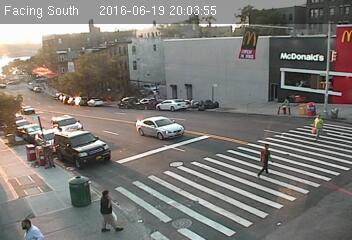neg: (18, 140, 45, 176), (183, 182, 210, 218), (40, 160, 65, 193), (290, 159, 313, 190), (158, 207, 180, 236), (312, 155, 333, 182), (315, 87, 328, 104), (258, 197, 266, 208)
pos: (84, 181, 125, 235), (245, 139, 281, 186), (306, 110, 331, 144), (20, 213, 39, 238)
